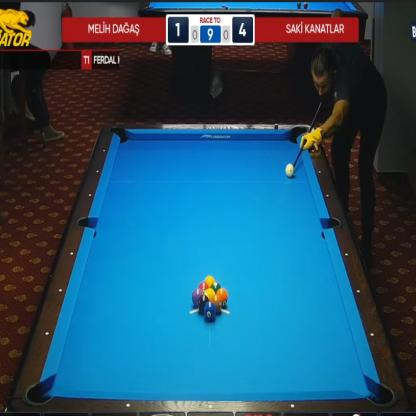Ball: (285, 164, 294, 178)
